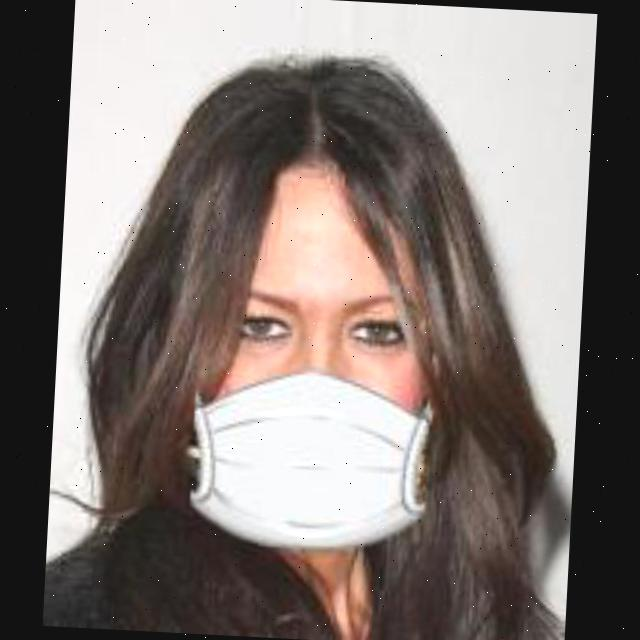suspicion: (157, 101, 464, 564)
